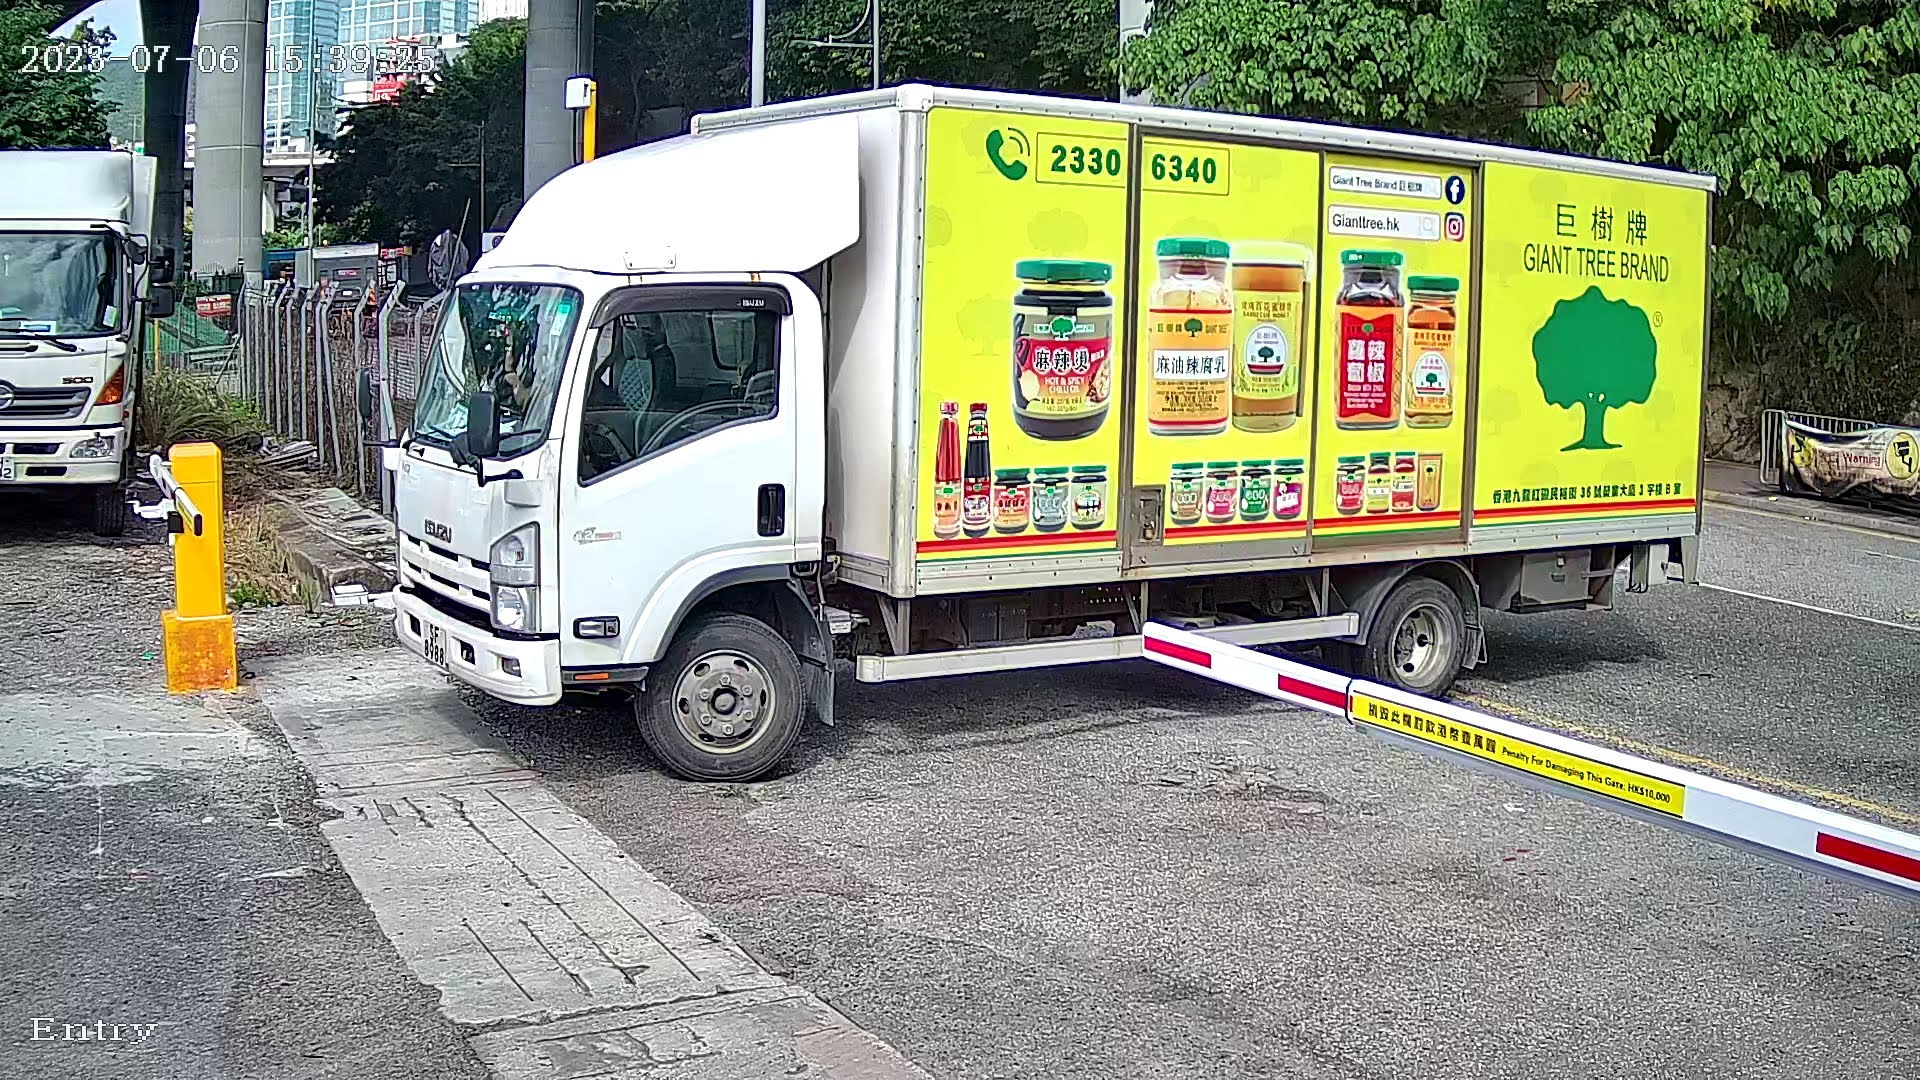truck: (357, 37, 1760, 812)
